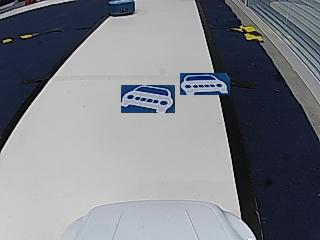prop: (108, 0, 134, 17)
